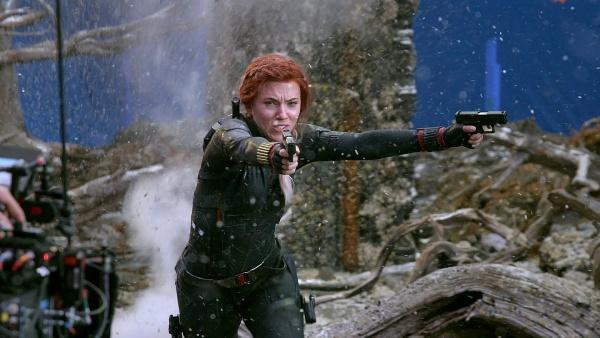Gun: (456, 108, 508, 148), (281, 130, 296, 162)
